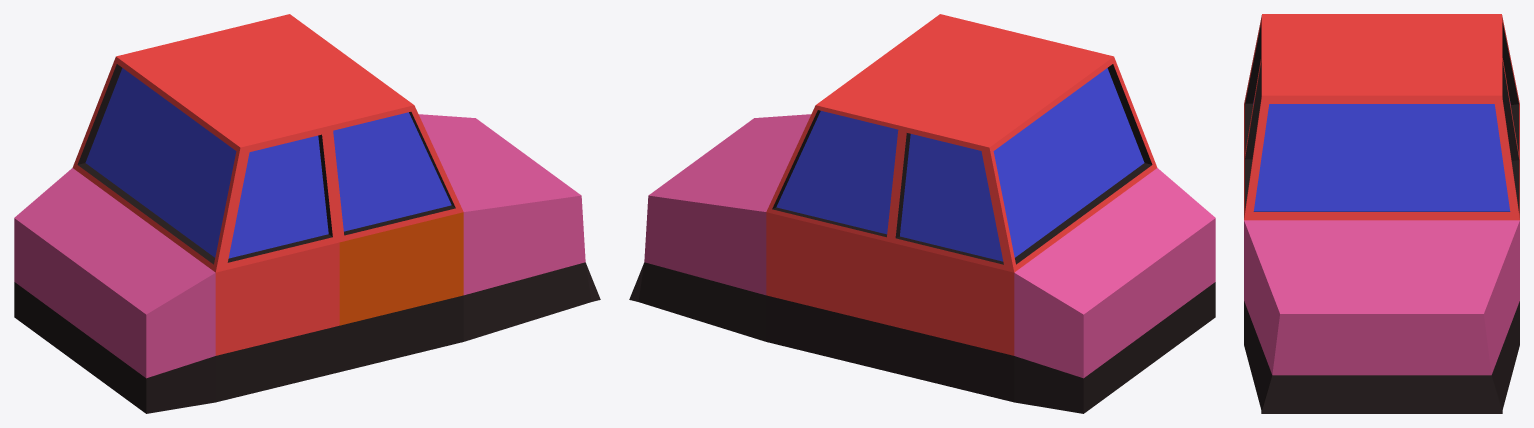
File: fabolous car.fbx
The picture shows the model from 3 angles, left to right: view 1: azimuth 30°, elevation 25°; view 2: azimuth 150°, elevation 25°; view 3: azimuth 270°, elevation 25°; orthographic projection. The views are drawn at different scales.
Parts seen in each view (by area): view 1: Cube; view 2: Cube; view 3: Cube.
Boxes of the visible parts, <box> form: Cube: <box>14,14,600,413</box>; Cube: <box>629,14,1215,413</box>; Cube: <box>1244,14,1519,413</box>.
Size of the model in its own units: 369 by 185 by 200.
